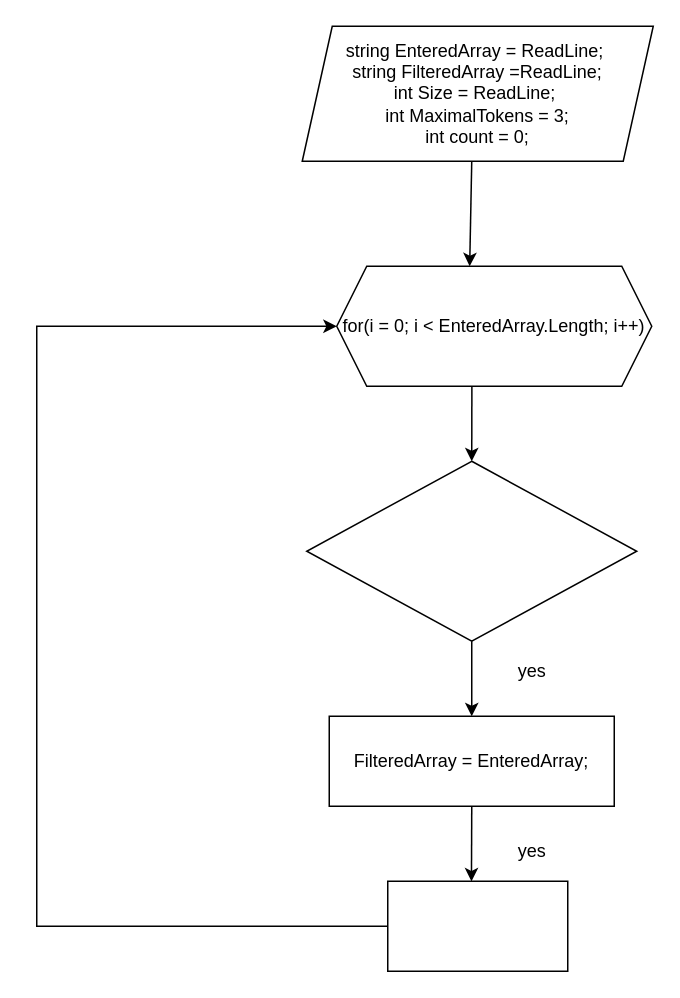
The diagram is 680 pixels wide and 998 high, and some of its shapes have lost their labels. Here are the shapes that lost their labels. From the top down, the centre of each, then its label:
At [471,550]: "EnteredArray<=MaximalTokens;".
At [477,925]: "count++;".
